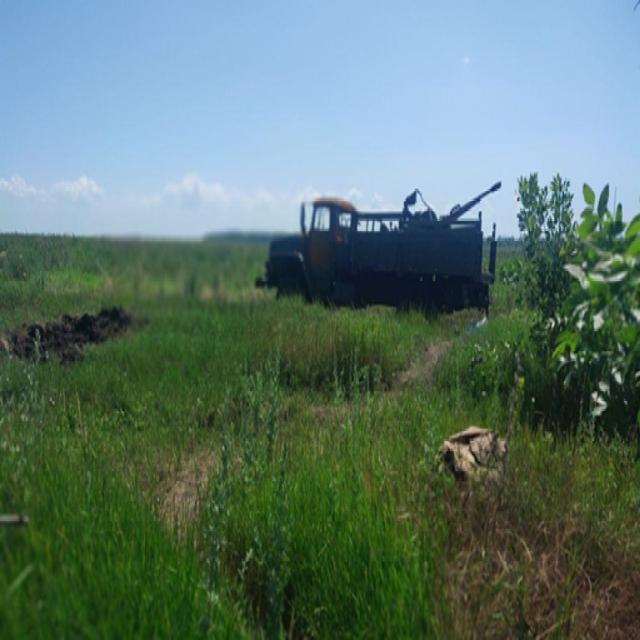TRUCK: (251, 184, 500, 334)
